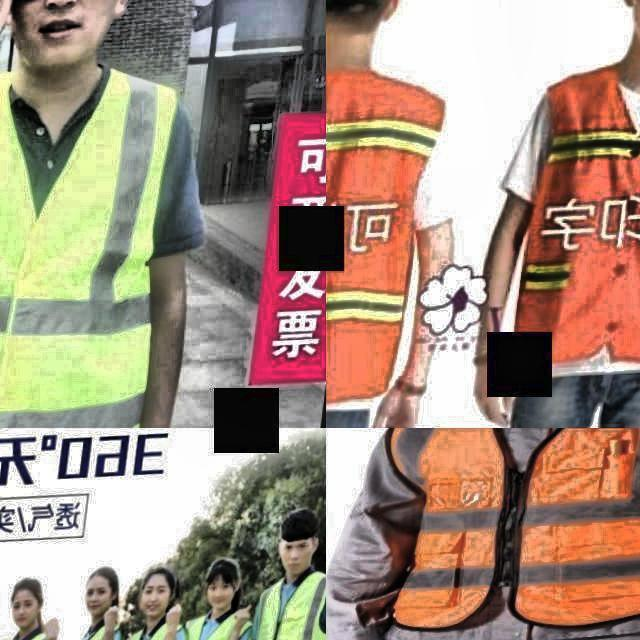safety_jacket: (0, 83, 185, 428), (368, 428, 640, 640), (326, 65, 440, 423), (524, 64, 640, 385), (263, 597, 326, 640)
